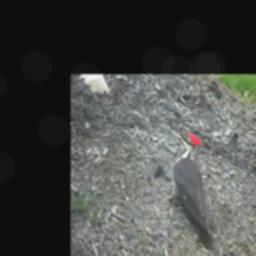Woodpecker: (163, 125, 218, 251)
